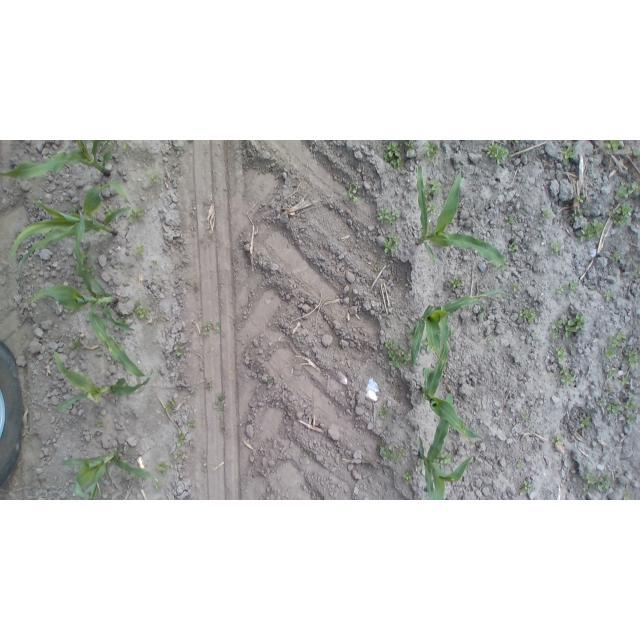Maize: (26, 233, 160, 379), (8, 181, 133, 273), (421, 295, 490, 446), (415, 164, 506, 269), (409, 290, 516, 368), (49, 348, 159, 414), (418, 393, 475, 500), (62, 444, 161, 500), (0, 140, 114, 180)
Weeds: (597, 397, 638, 426), (551, 312, 587, 341), (603, 202, 633, 227), (422, 179, 443, 214), (385, 342, 408, 371), (604, 331, 627, 359), (578, 219, 607, 241), (384, 141, 405, 171), (583, 473, 611, 494), (612, 181, 640, 199), (378, 445, 407, 461), (100, 140, 129, 156), (487, 145, 510, 164), (377, 209, 400, 225), (382, 234, 400, 254), (519, 307, 537, 325), (623, 347, 637, 369), (425, 140, 439, 162), (341, 184, 359, 201), (560, 365, 577, 383), (436, 451, 453, 469), (133, 301, 149, 320), (128, 208, 146, 224), (213, 395, 227, 411), (558, 146, 574, 160), (520, 480, 533, 496), (556, 345, 569, 359), (450, 276, 463, 289), (541, 208, 554, 221), (157, 462, 170, 475), (406, 141, 419, 154), (571, 209, 584, 222), (133, 245, 147, 257), (174, 433, 186, 447), (165, 399, 176, 414), (202, 322, 213, 336), (507, 239, 518, 253), (606, 142, 622, 151), (569, 279, 579, 293), (550, 436, 564, 445), (378, 408, 388, 420), (579, 417, 592, 426), (151, 171, 162, 181), (619, 377, 630, 386), (623, 491, 634, 500), (505, 216, 516, 225), (555, 285, 564, 296), (606, 370, 618, 378), (604, 291, 613, 301), (172, 351, 184, 358), (576, 195, 587, 202), (517, 460, 525, 469), (214, 320, 220, 332), (301, 446, 308, 456), (187, 423, 197, 430), (514, 282, 521, 291), (404, 473, 411, 482), (154, 481, 161, 490), (554, 244, 561, 253), (634, 265, 640, 275), (627, 256, 635, 263), (613, 254, 622, 260), (151, 260, 158, 267), (174, 454, 181, 461), (521, 412, 528, 418), (633, 151, 639, 157)
